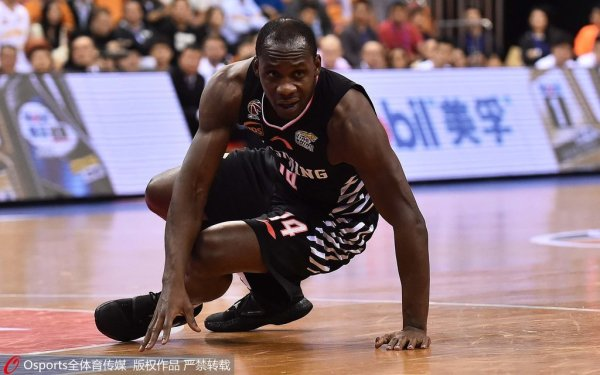10+: (1, 1, 599, 364)
down: (85, 10, 461, 362)
